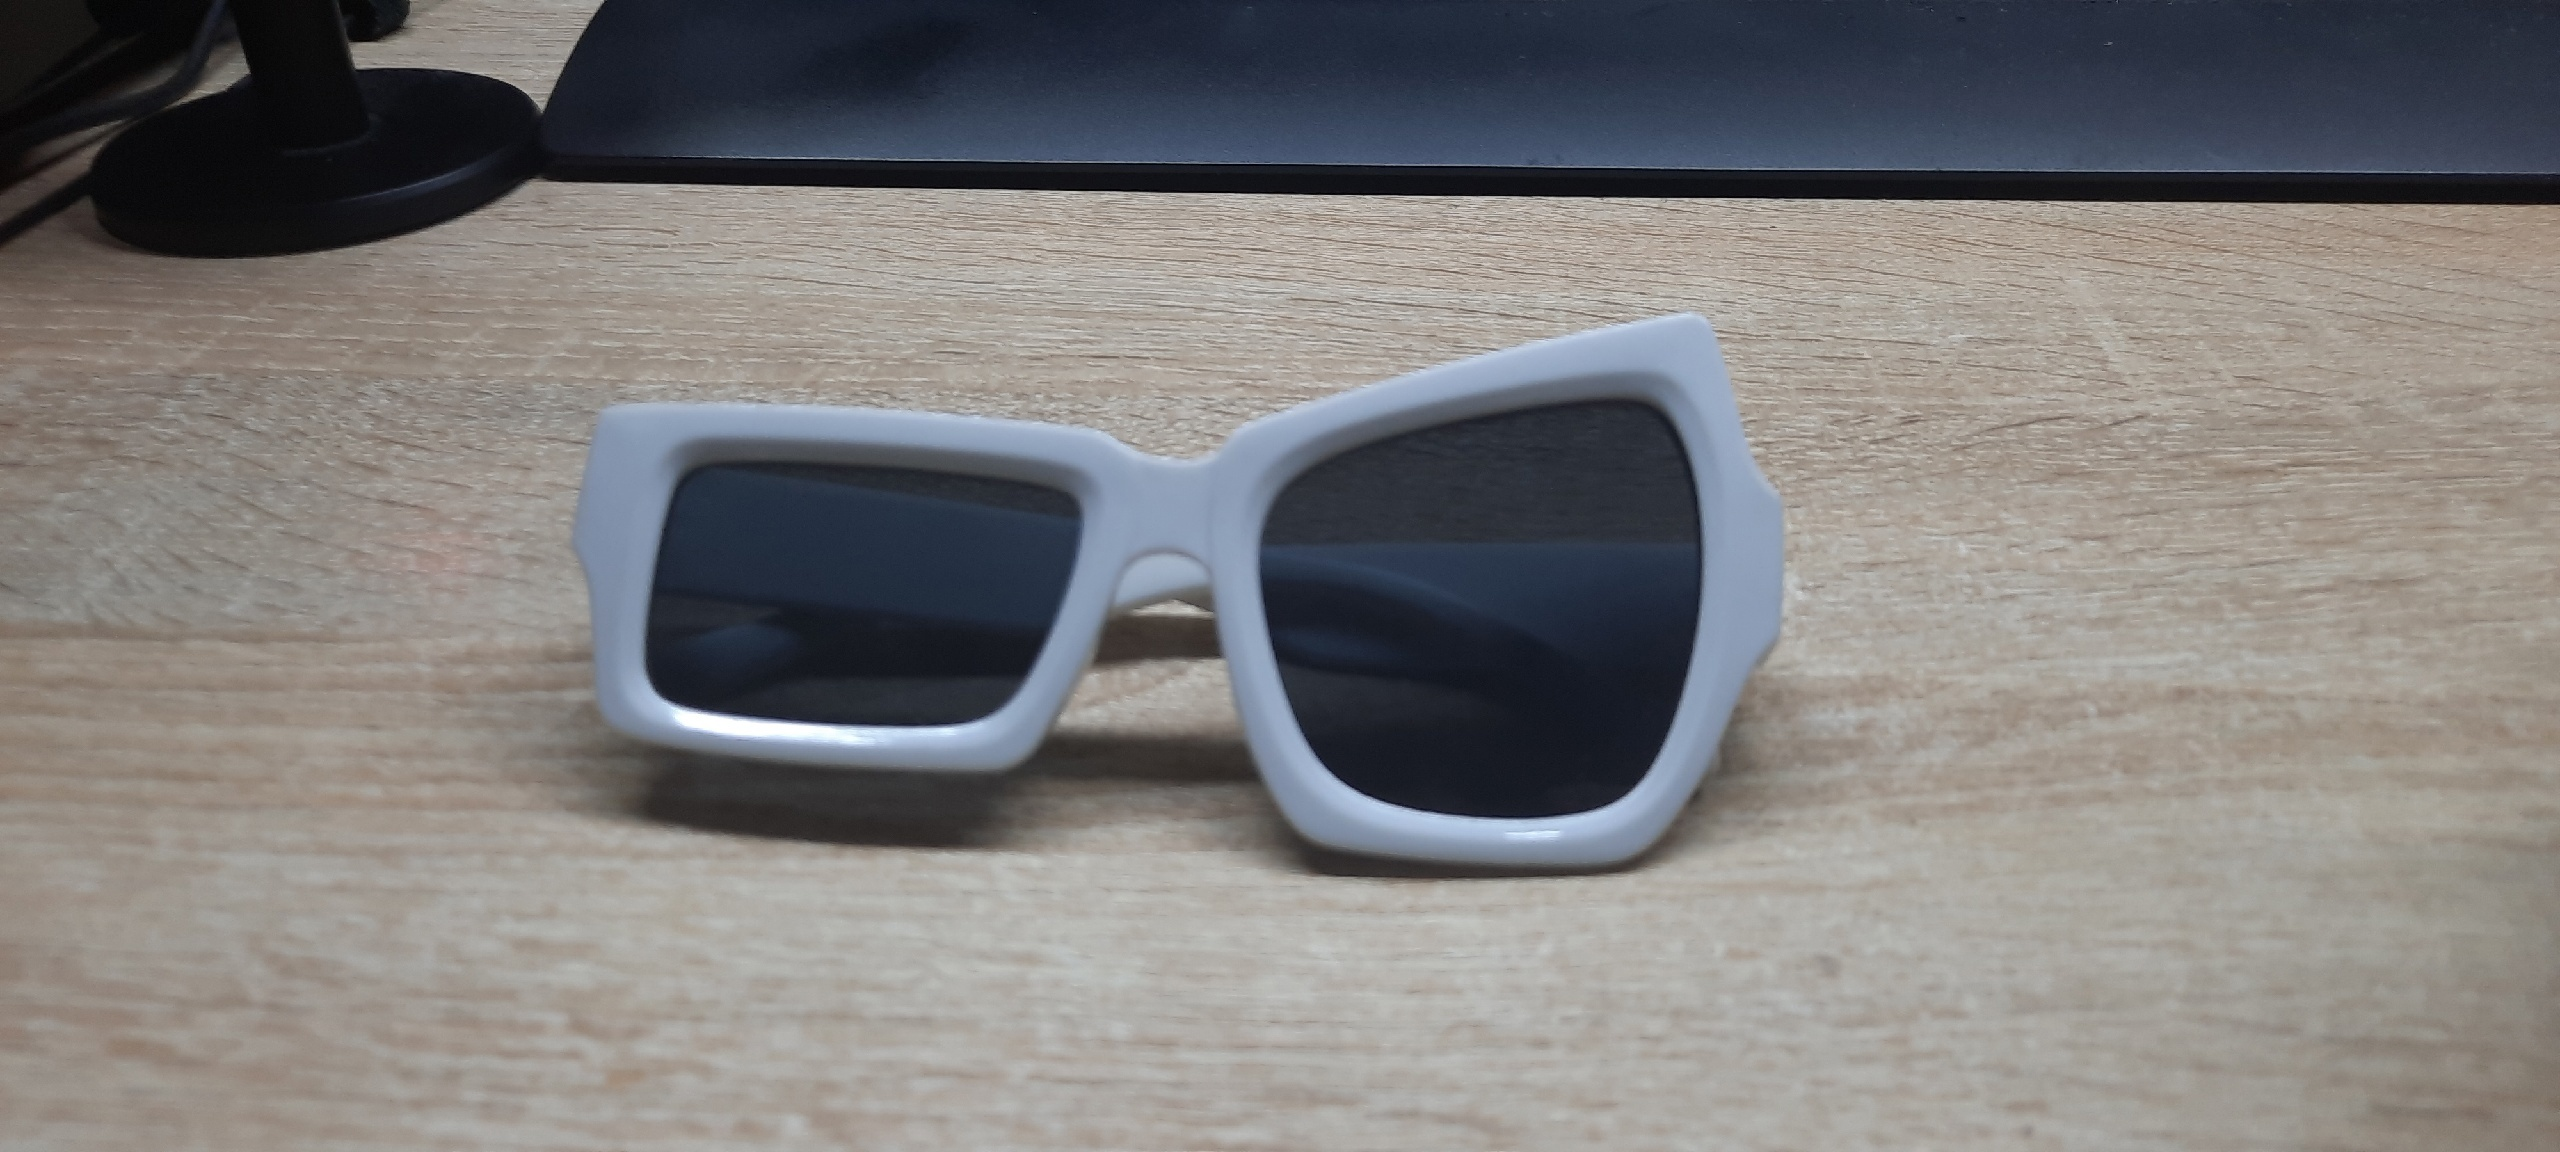glasses: (576, 317, 1781, 868)
